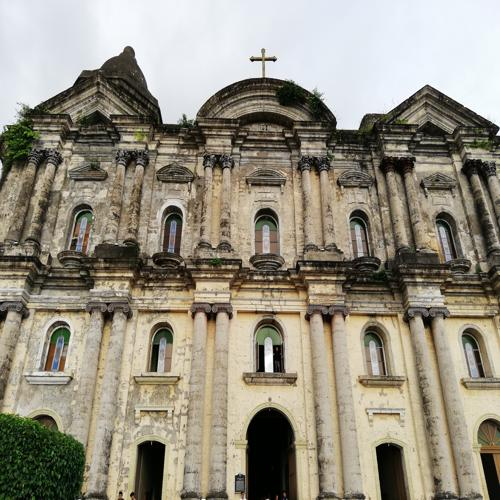Taal Basilica Church: (2, 32, 500, 500)
